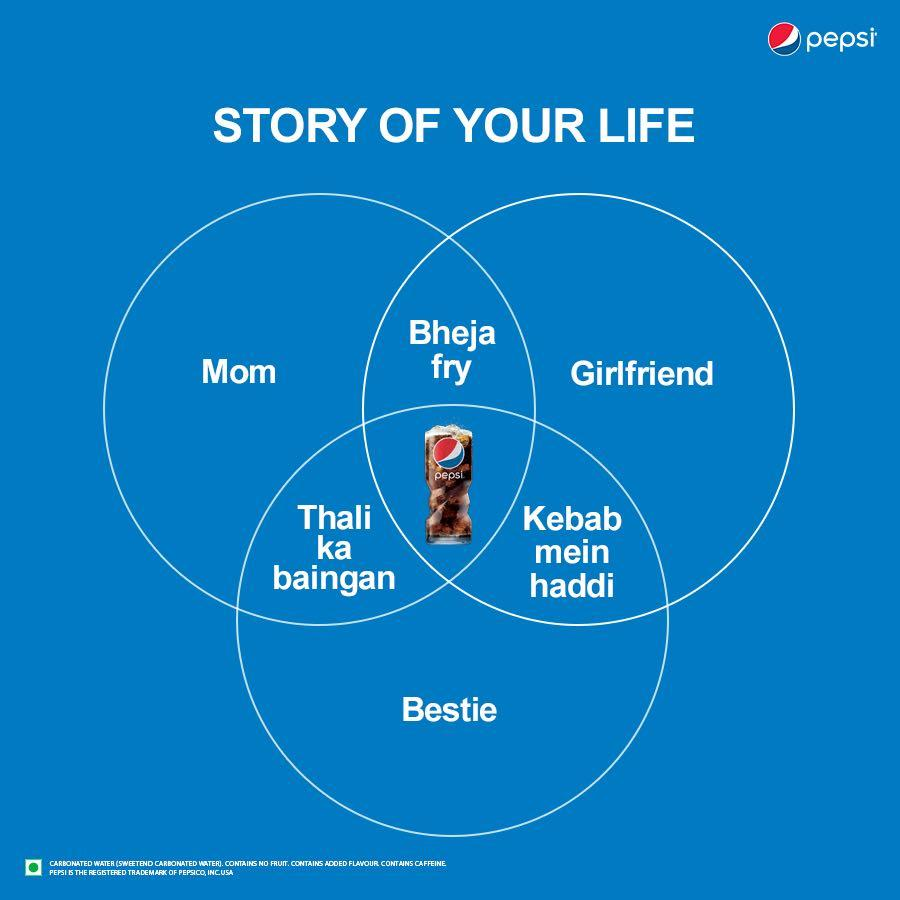pepsi: (426, 428, 467, 470), (429, 434, 467, 470), (764, 18, 799, 57)
